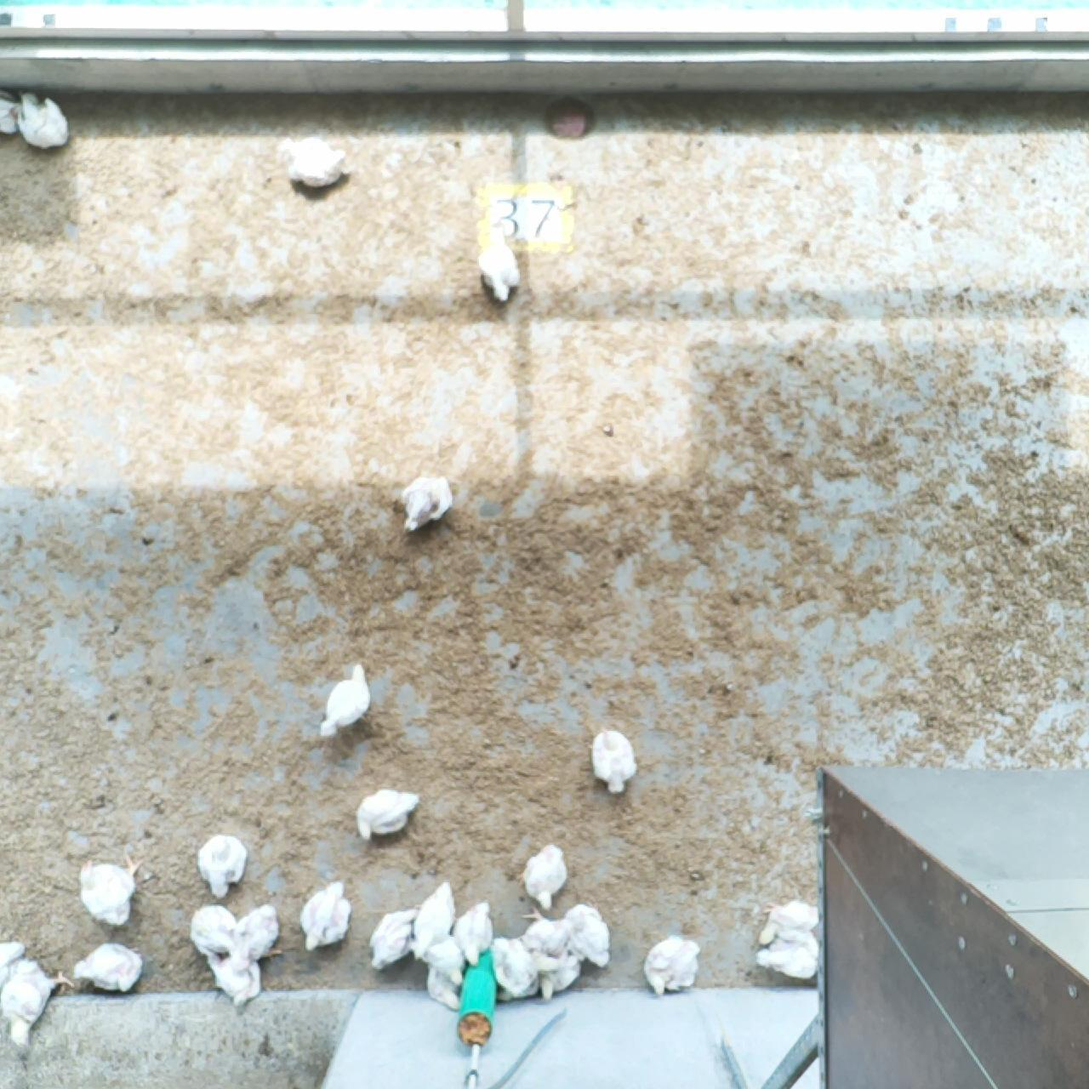chicken: (4, 958, 59, 1053), (320, 666, 371, 736), (299, 884, 351, 948), (73, 944, 143, 991), (412, 882, 454, 954), (590, 730, 636, 795), (81, 864, 134, 920), (358, 790, 420, 837), (402, 476, 453, 533), (479, 223, 517, 299), (190, 904, 246, 955), (758, 936, 819, 982), (527, 844, 569, 909), (647, 938, 700, 989), (20, 94, 70, 148), (371, 910, 415, 971), (200, 837, 247, 894), (287, 140, 345, 186), (491, 936, 533, 996), (571, 906, 611, 966), (211, 955, 261, 1001), (523, 910, 572, 955), (238, 905, 280, 957), (528, 955, 592, 988), (760, 904, 819, 938), (419, 934, 461, 978), (459, 903, 493, 957), (425, 966, 462, 1006), (1, 940, 23, 978), (1, 99, 19, 130)
